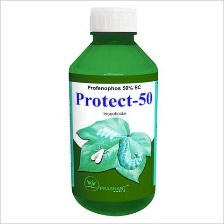insecticide: (63, 4, 161, 219)
